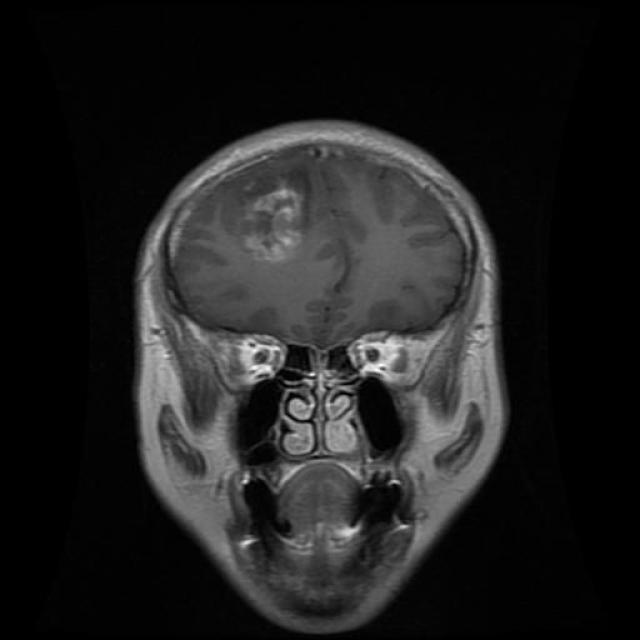glioma: (236, 178, 310, 264)
